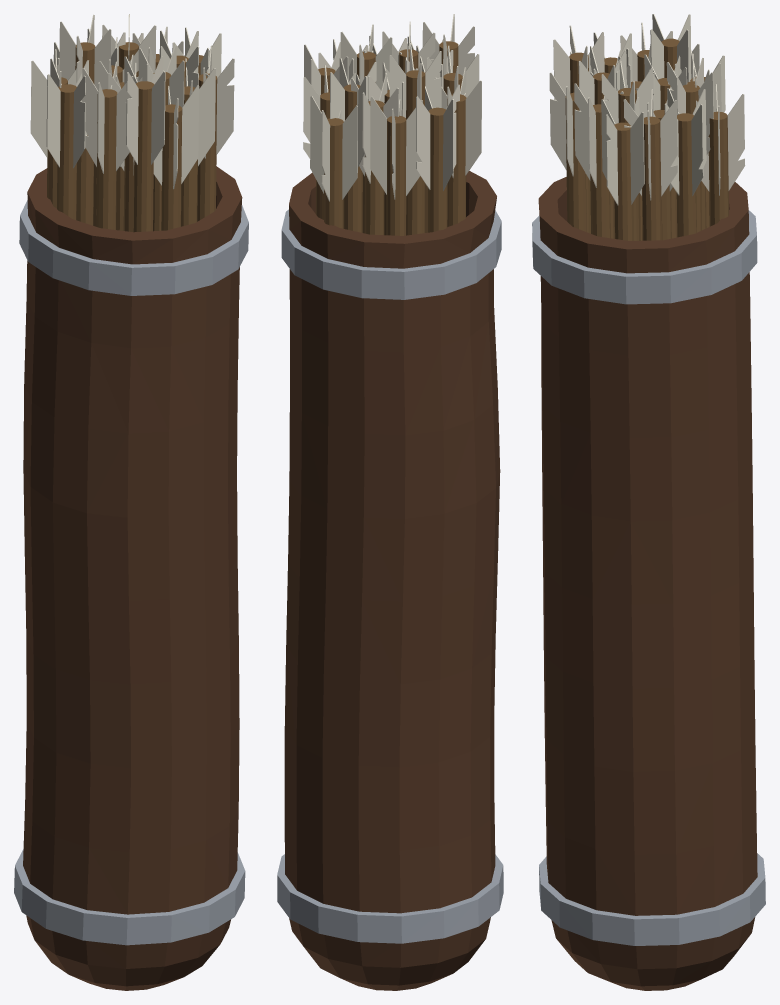
File: Quiver 2.fbx
3 renders of one model, left to right at view 1: azimuth 30°, elevation 25°; view 2: azimuth 150°, elevation 25°; view 3: azimuth 270°, elevation 25°, orthographic.
Parts seen in each view (by area): view 1: Quiver 0; view 2: Quiver 0; view 3: Quiver 0.
Boxes of the visible parts, x1,y1,x2,y2 form: Quiver 0: [14, 14, 248, 990]; Quiver 0: [277, 14, 503, 990]; Quiver 0: [532, 14, 765, 990].
Bounding box in the file's own units: 0.1524 × 0.7014 × 0.1585.
